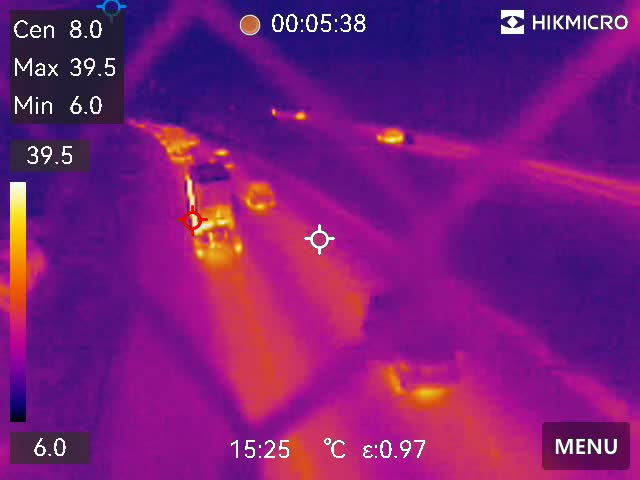heavyTruck: (179, 160, 248, 262)
